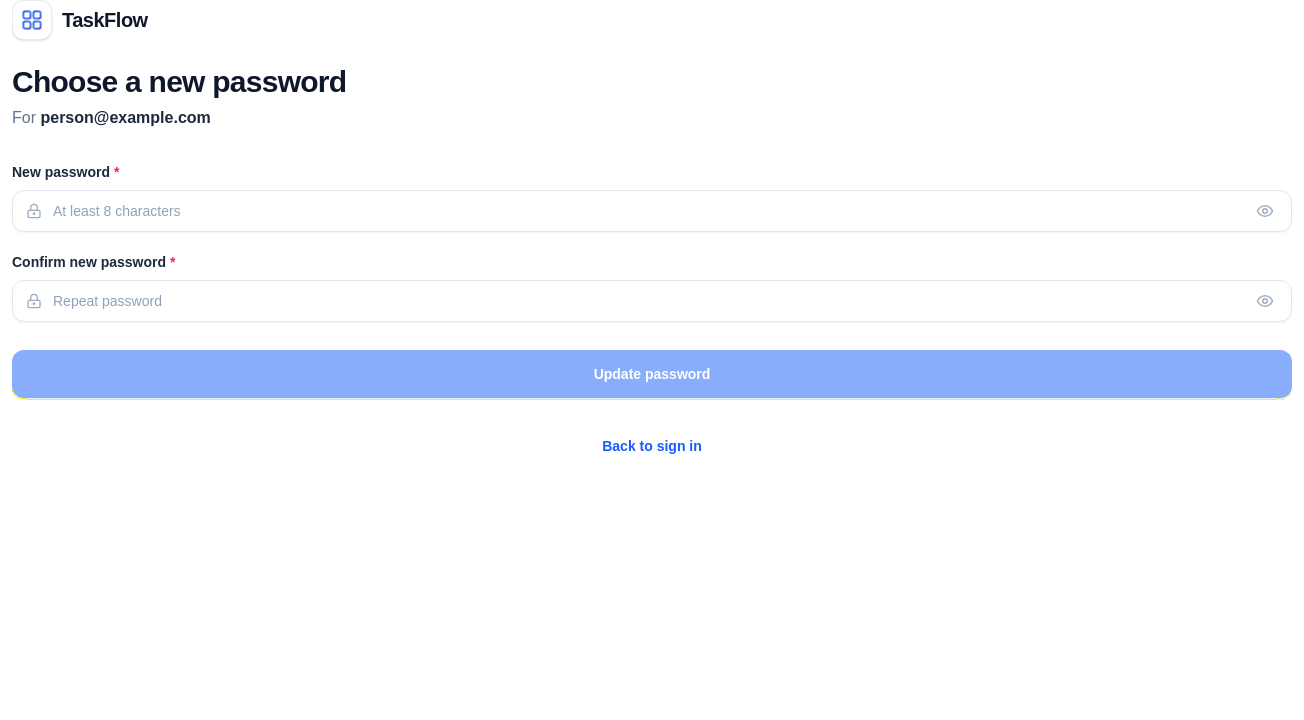
Test: shows safe reset errors for Failed to update password. Please try again.
Type "NewStrongPassword@123" into the password field with placeholder "At least 8 characters" at (652,211), box [12,190,1292,232]
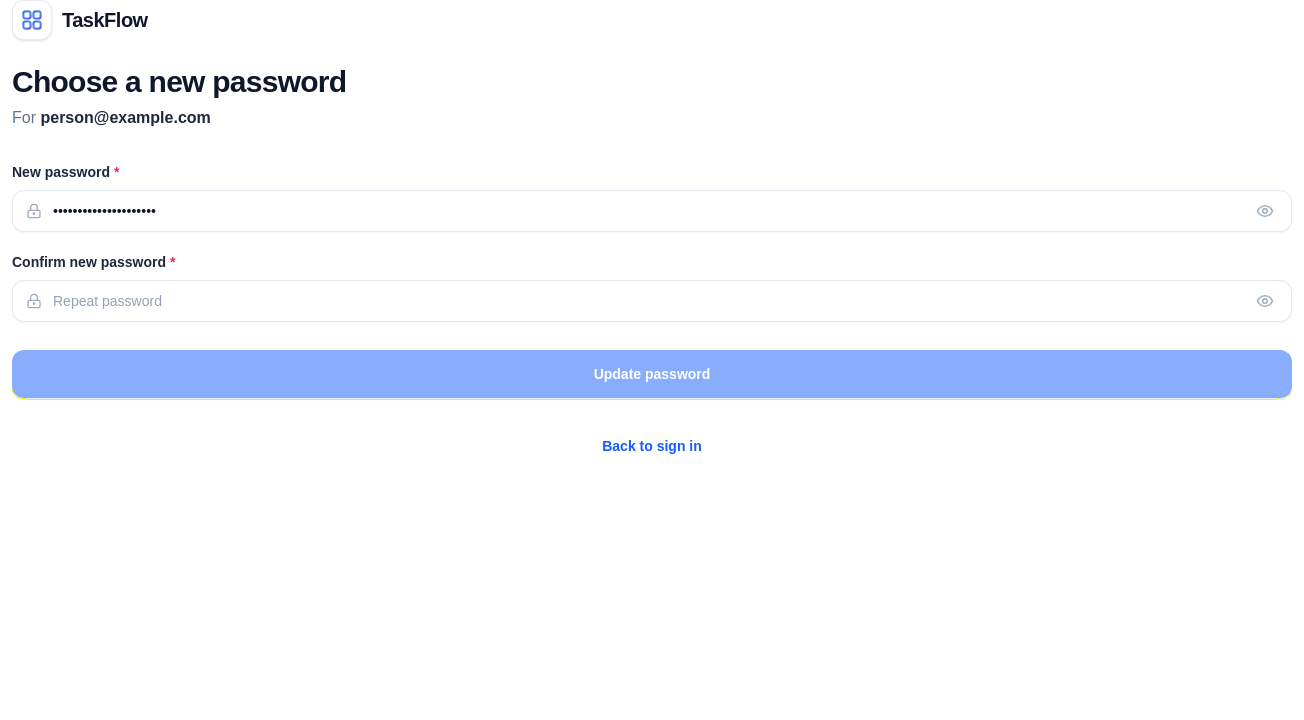
Type "NewStrongPassword@123" into the password field with placeholder "Repeat password" at (652,301), box [12,280,1292,322]
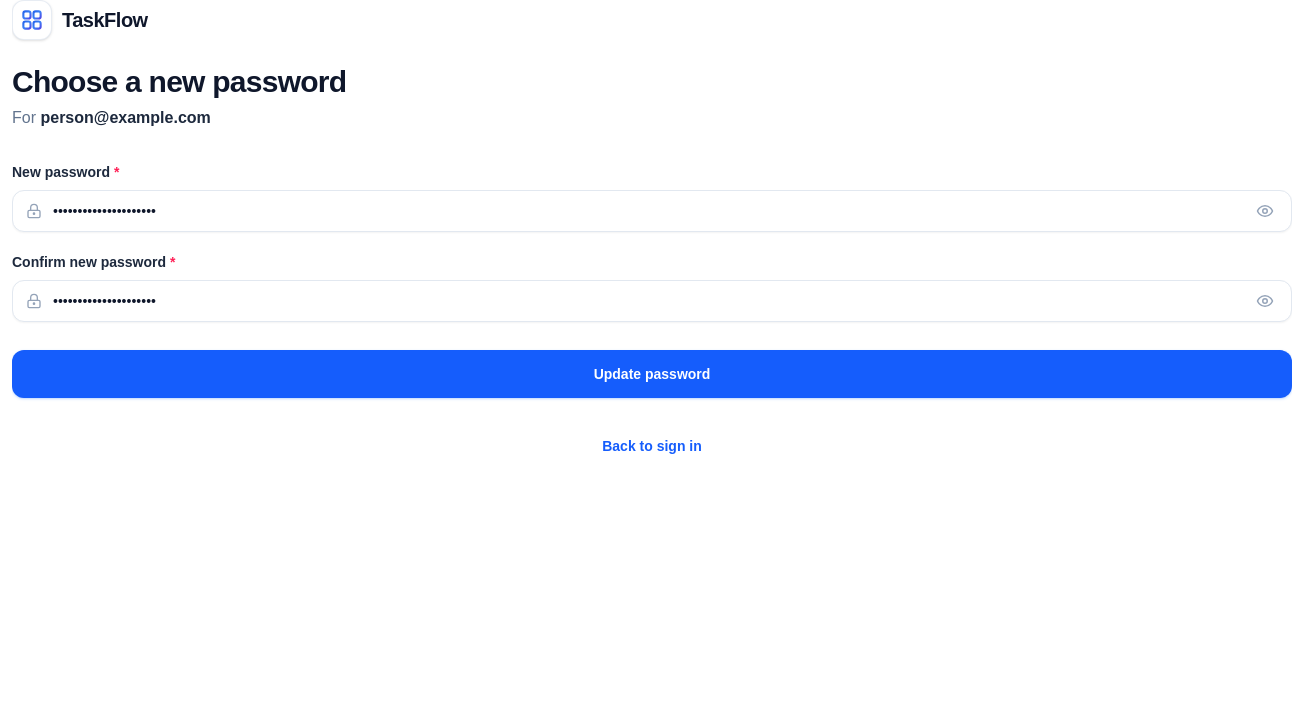
Check: the button "Update password" is enabled
Click the button "Update password" at (652,374), box [12,350,1292,398]
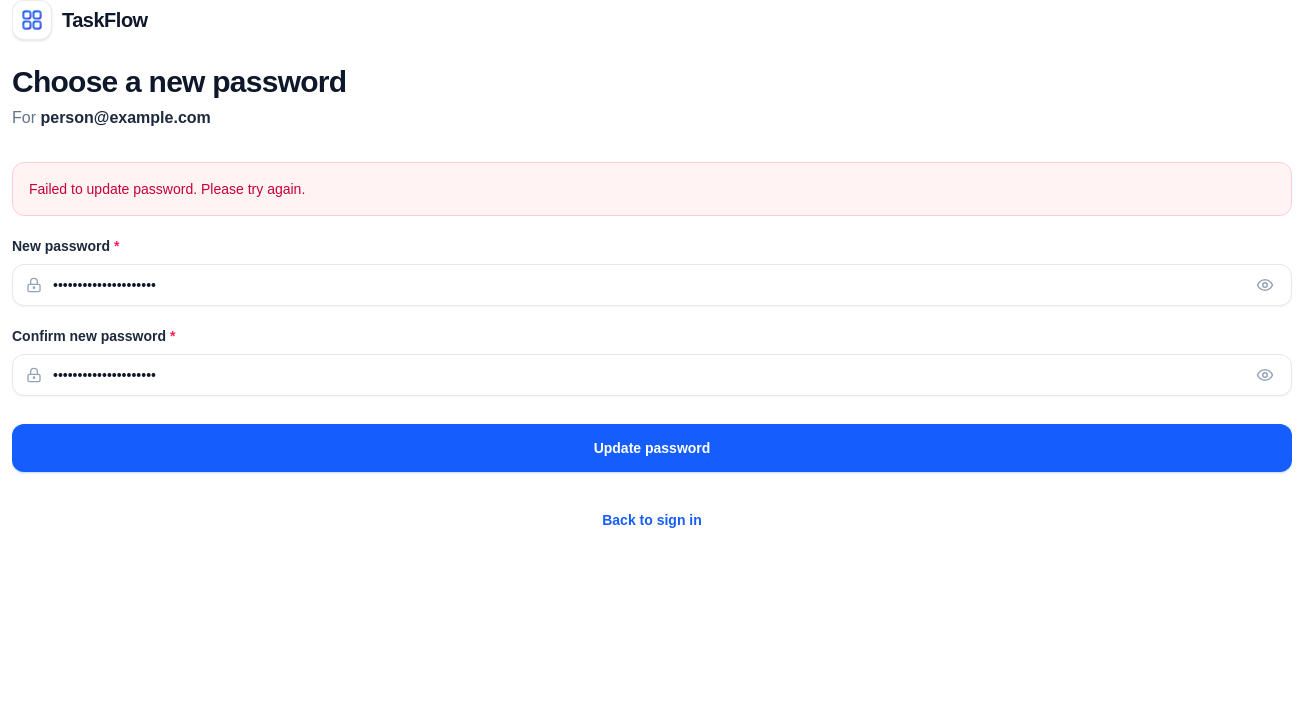
Check: the message reads "Failed to update password. Please try again.", box [29,181,305,197]
